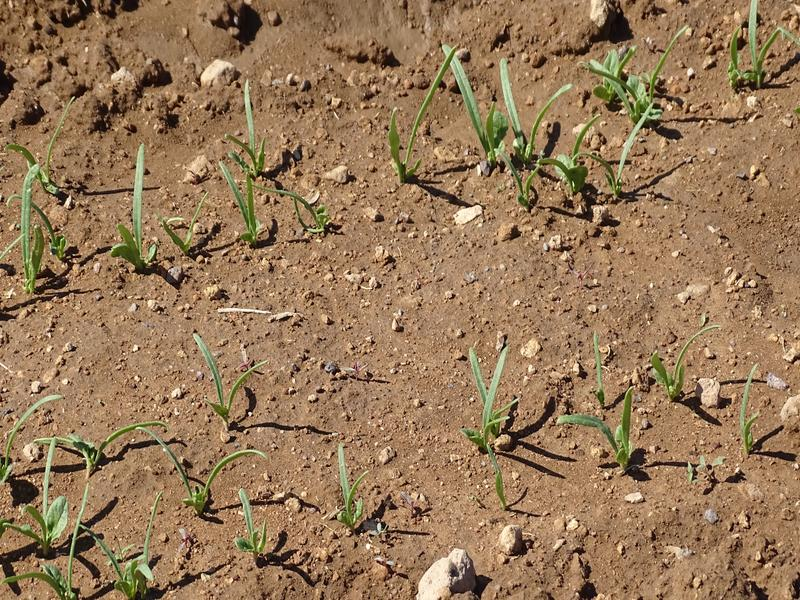Espinaca: (10, 101, 325, 288), (443, 328, 768, 500), (10, 395, 286, 591), (407, 37, 699, 203), (726, 9, 789, 89), (329, 444, 376, 525), (200, 342, 255, 396)
